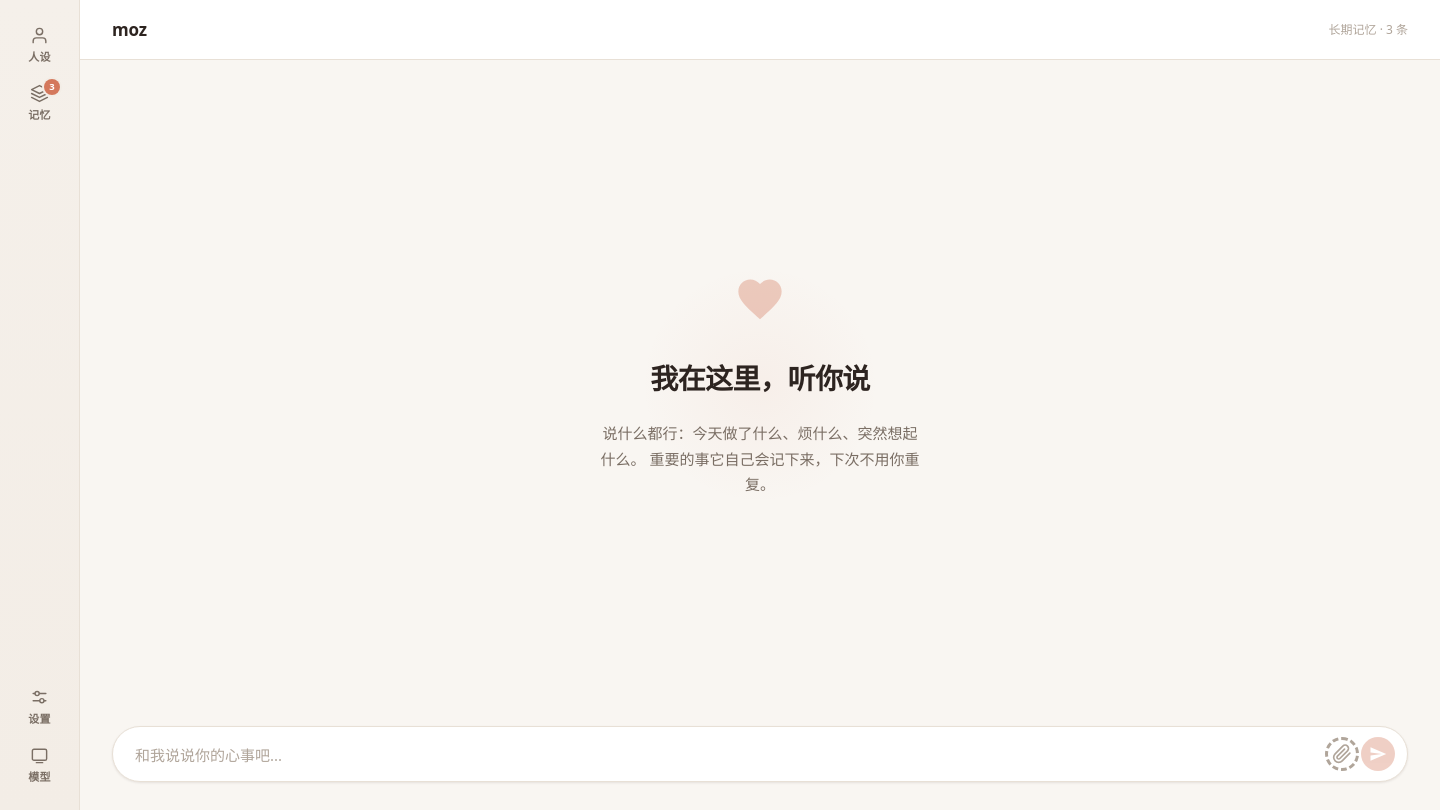
Test: 产品形态回归：单条长期陪伴流 › 确认框必须带卡片与按钮样式类（曾因样式在孤儿文件里而裸奔）
Expected: the button with class "rail-item" showing "人设" is shown, [10,18,70,70]
Click the button "设置": (40, 706) [10,680,70,732]
(page scrolled)
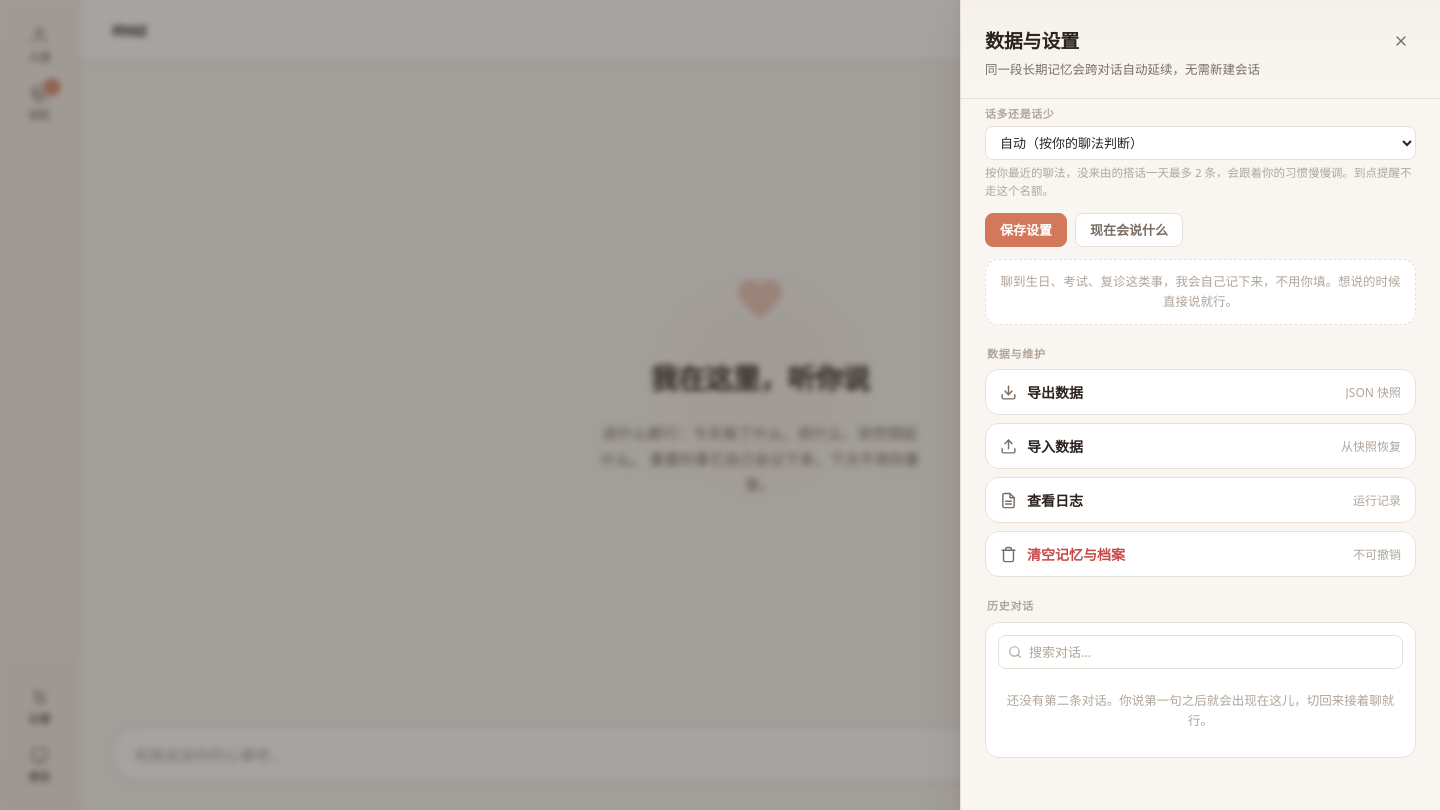
Expected: the dialog with class "me-panel" is shown, [960,0,1439,809]
Expected: the button with class "me-row" showing "清空记忆与档案 不可撤销" is shown
Click the button with class "me-row" showing "清空记忆与档案 不可撤销": (1076, 555) [985,532,1416,578]
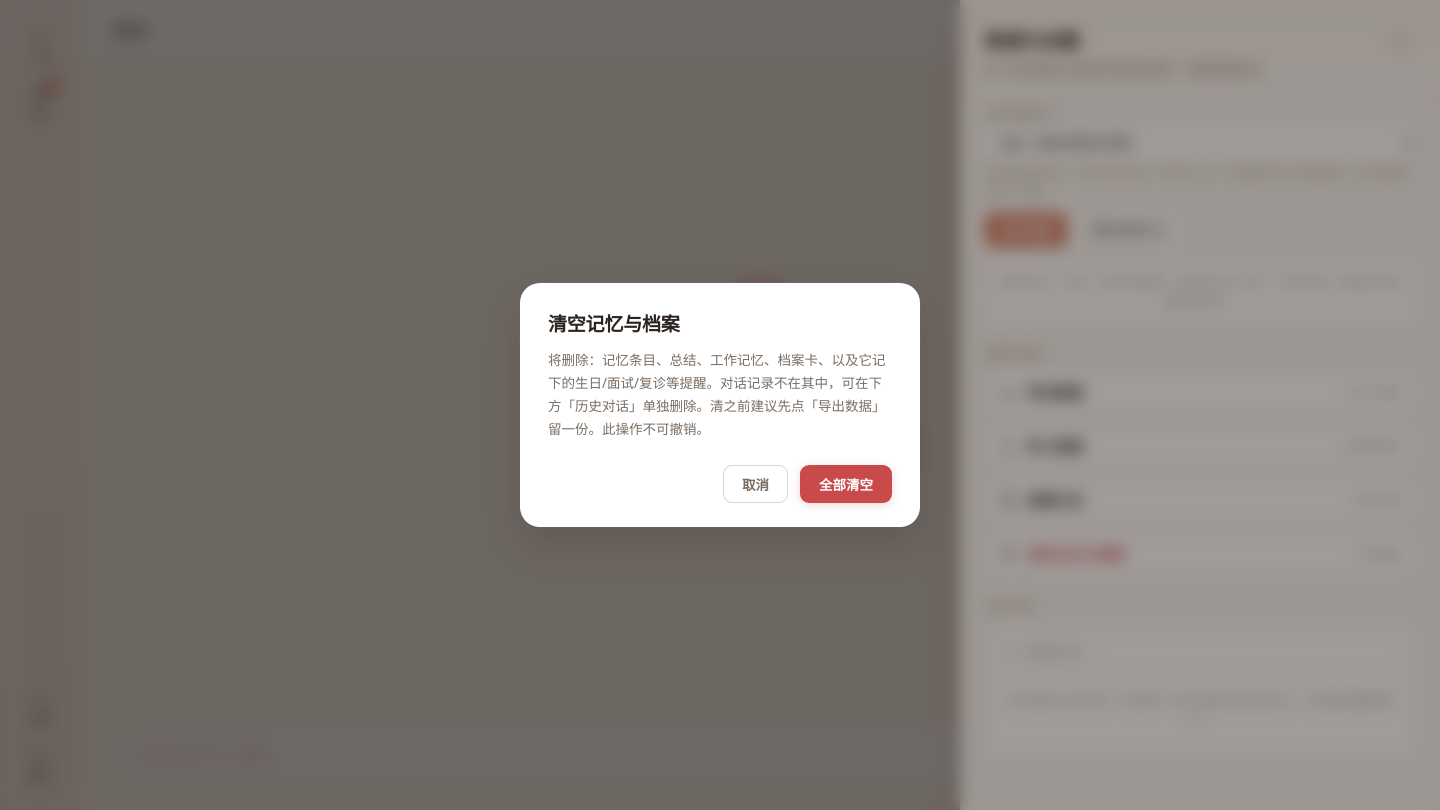
Expected: the dialog with class "confirm-dialog" is shown, [520,283,920,527]
